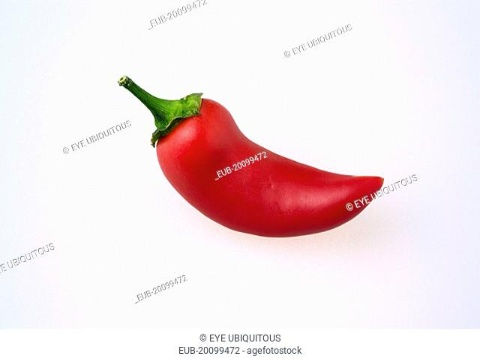Chilli: (105, 64, 410, 250)
